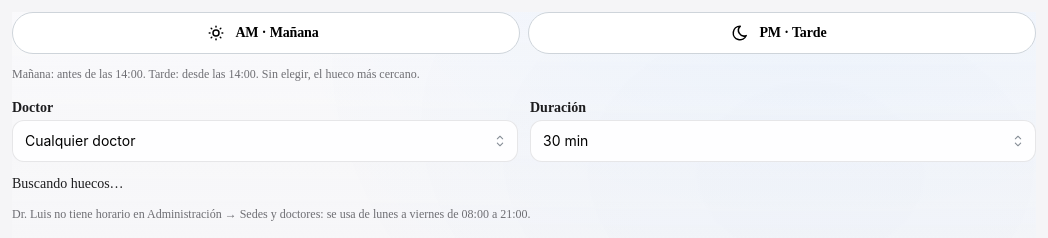
it: NextSlotFinder › filters by morning or afternoon and toggles the choice off again
Later steps or results of the test are not shown.
Click the button "PM · Tarde" at (782, 33), box [528, 12, 1036, 54]
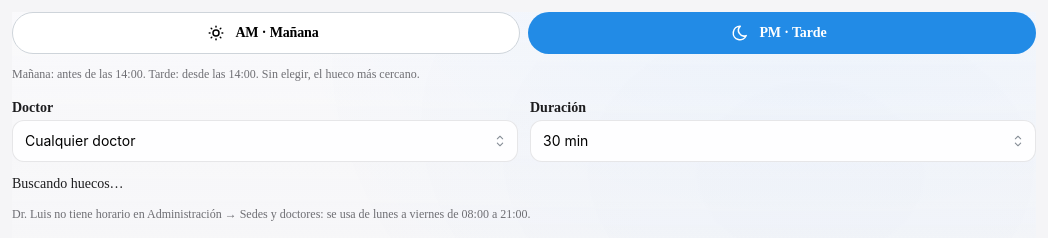
Expected: the button "PM · Tarde" is pressed, [528, 12, 1036, 54]
